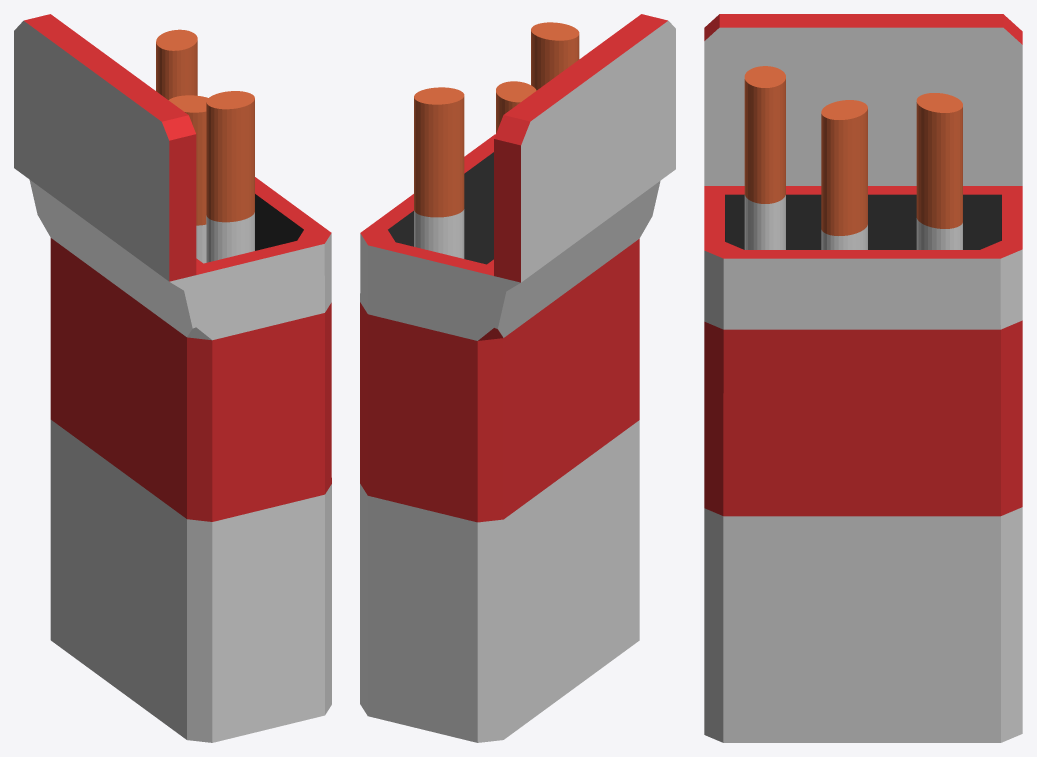
Rendered from Cigarette.fbx.
The picture shows the model from 3 angles, left to right: view 1: azimuth 30°, elevation 25°; view 2: azimuth 150°, elevation 25°; view 3: azimuth 270°, elevation 25°; orthographic projection. The views are drawn at different scales.
Parts seen in each view (by area): view 1: Cube, Cylinder, Cylinder.002, Cylinder.001; view 2: Cube, Cylinder.002, Cylinder, Cylinder.001; view 3: Cube, Cylinder, Cylinder.002, Cylinder.001.
Boxes of the visible parts, <box> form: Cube: <box>14,14,331,742</box>; Cylinder: <box>206,91,254,262</box>; Cylinder.002: <box>156,29,197,99</box>; Cylinder.001: <box>168,95,208,263</box>; Cube: <box>360,14,675,742</box>; Cylinder.002: <box>414,87,464,258</box>; Cylinder: <box>531,22,579,90</box>; Cylinder.001: <box>496,81,536,133</box>; Cube: <box>704,14,1022,742</box>; Cylinder: <box>744,66,785,249</box>; Cylinder.002: <box>916,93,962,249</box>; Cylinder.001: <box>821,100,867,249</box>.
Size of the model in its own units: 128 by 446 by 200.
